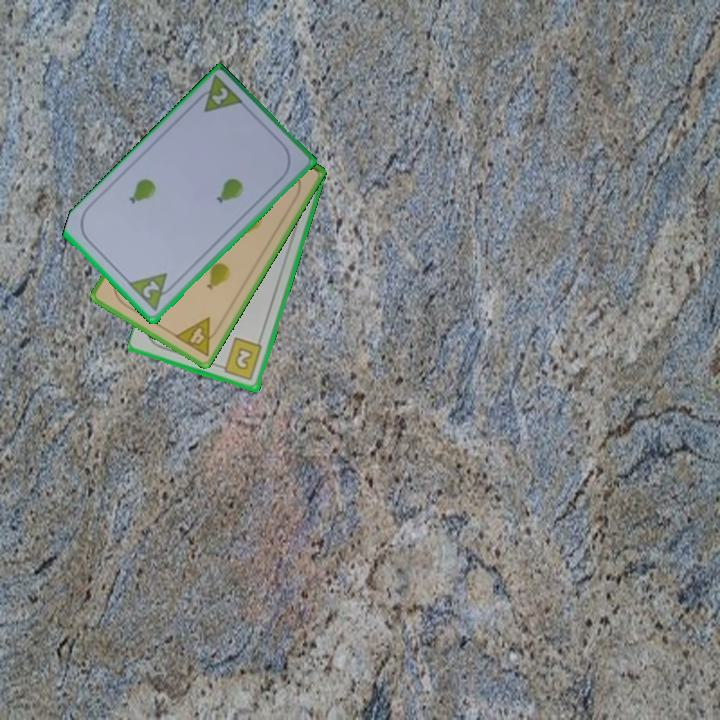2b: (215, 335, 265, 383)
2p: (190, 72, 247, 116), (139, 277, 162, 302)
4p: (171, 314, 224, 359)
